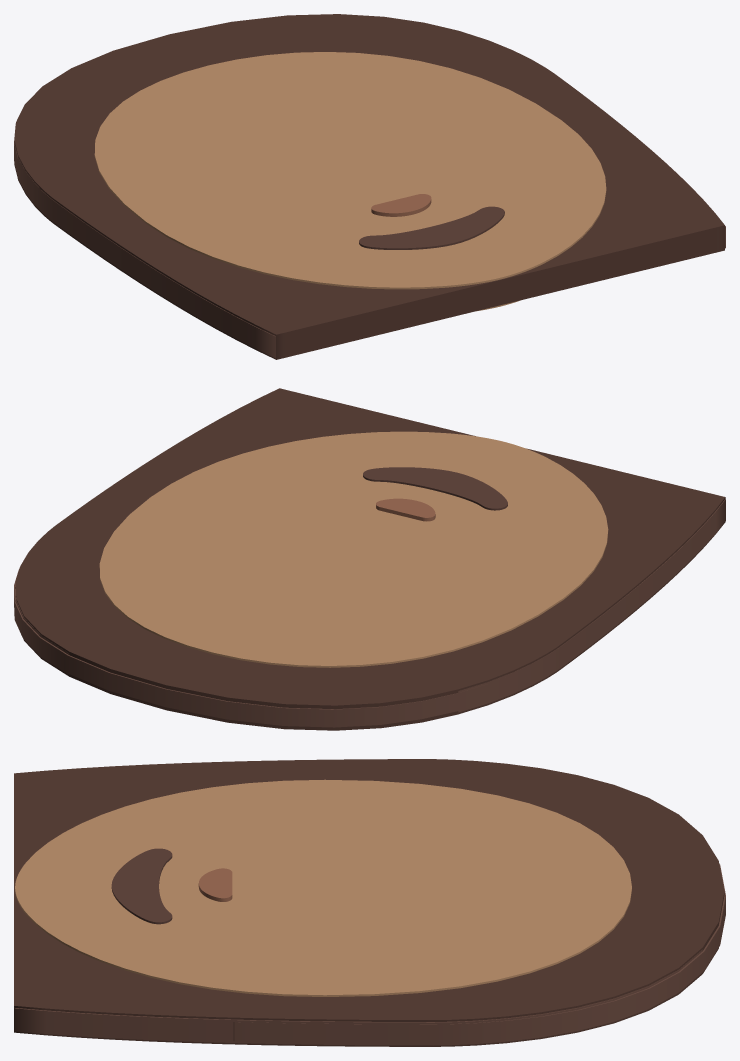
File: emoji_u1f469_1f3fd.glb
3 renders of one model, top to bottom at view 1: azimuth 30°, elevation 25°; view 2: azimuth 150°, elevation 25°; view 3: azimuth 270°, elevation 25°, orthographic. The views are drawn at different scales.
Visible parts, largest first — view 1: emoji_u1f469_1f3fd; view 2: emoji_u1f469_1f3fd; view 3: emoji_u1f469_1f3fd.
Part boxes in pixels (bbox=[...]): emoji_u1f469_1f3fd: bbox=[14, 14, 725, 359]; emoji_u1f469_1f3fd: bbox=[14, 388, 725, 730]; emoji_u1f469_1f3fd: bbox=[14, 759, 725, 1046].
Size of the model in its own units: 0.0293 by 0.002 by 0.0337.
